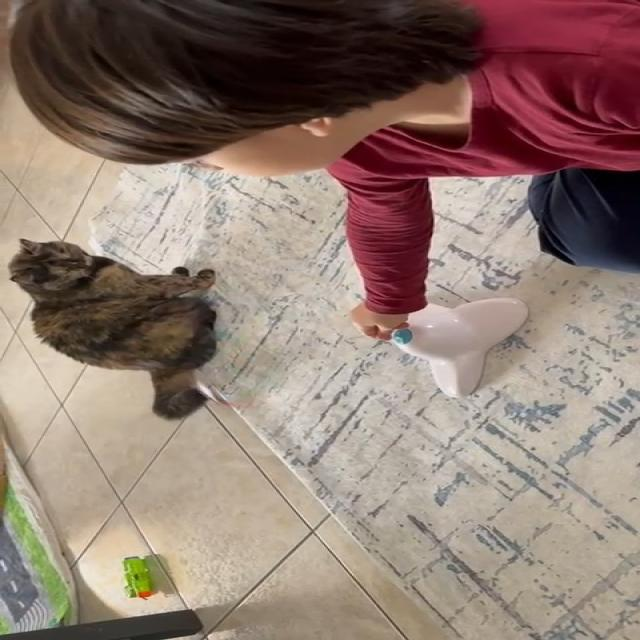authorized: (7, 238, 218, 420)
